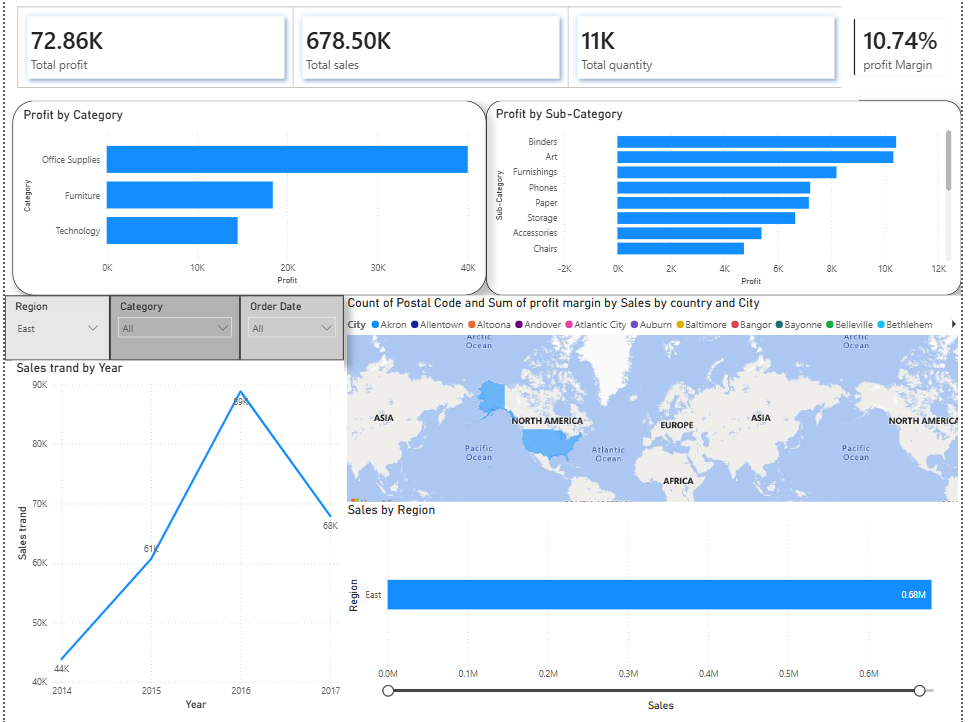

The page's visual inventory and layout, read from the dashboard file:
{"tool":"powerbi","page":{"name":"Page 1","canvas":[1300,1000],"ordinal":0},"visuals":[{"type":"clusteredBarChart","fields":{"Category":["cv amajon data pw.Category"],"Y":["Sum(cv amajon data pw.Profit)"]},"box":[10.2,146.1,643.7,264.9],"z":0},{"type":"clusteredBarChart","fields":{"Y":["Sum(cv amajon data pw.Profit)"],"Category":["cv amajon data pw.Sub-Category"]},"box":[653.9,146.1,645.4,264.9],"z":1000},{"type":"cardVisual","fields":{"Data":["Sum(cv amajon data pw.Profit)","Sum(cv amajon data pw.Sales)","Sum(cv amajon data pw.Quantity)"]},"box":[0,0,1160,146.1],"z":2000},{"type":"filledMap","fields":{"Category":["cv amajon data pw.Country","cv amajon data pw.State"],"Series":["cv amajon data pw.City"]},"box":[460.3,411,839,300.6],"z":3000},{"type":"clusteredBarChart","fields":{"Y":["Sum(cv amajon data pw.Sales)"],"Category":["cv amajon data pw.Region"]},"box":[460.3,691.2,839,288.7],"z":4000},{"type":"slicer","fields":{"Values":["cv amajon data pw.Region"]},"box":[0,411,142.7,88.3],"z":5000},{"type":"slicer","fields":{"Values":["cv amajon data pw.Category"]},"box":[142.7,411,176.6,88.3],"z":6000},{"type":"slicer","fields":{"Values":["cv amajon data pw.Order Date"]},"box":[319.3,411,141,88.3],"z":7000},{"type":"lineChart","fields":{"Y":["Sum(cv amajon data pw.Sales)"],"Category":["cv amajon data pw.Order Date.Variation.Date Hierarchy.Year"]},"box":[10.2,499.3,450.1,480.6],"z":8000},{"type":"cardVisual","fields":{"Data":["cv amajon data pw.PM","cv amajon data pw.PM"]},"box":[1136.2,17,163,113.8],"z":8001}]}

Visuals, with their boxes in screenshot pixels (x1, y1, x2, y2):
clusteredBarChart - cv amajon data pw.Category x Sum(cv amajon data pw.Profit): Rect(8, 72, 482, 268)
clusteredBarChart - Sum(cv amajon data pw.Profit) x cv amajon data pw.Sub-Category: Rect(482, 72, 958, 268)
cardVisual - Sum(cv amajon data pw.Profit) x Sum(cv amajon data pw.Sales): Rect(0, 0, 855, 72)
filledMap - cv amajon data pw.Country x cv amajon data pw.State: Rect(339, 268, 958, 489)
clusteredBarChart - Sum(cv amajon data pw.Sales) x cv amajon data pw.Region: Rect(339, 474, 958, 687)
slicer - cv amajon data pw.Region: Rect(0, 268, 105, 333)
slicer - cv amajon data pw.Category: Rect(105, 268, 235, 333)
slicer - cv amajon data pw.Order Date: Rect(235, 268, 339, 333)
lineChart - Sum(cv amajon data pw.Sales) x cv amajon data pw.Order Date.Variation.Date Hierarchy.Year: Rect(8, 333, 339, 687)
cardVisual - cv amajon data pw.PM x cv amajon data pw.PM: Rect(838, 0, 958, 61)
